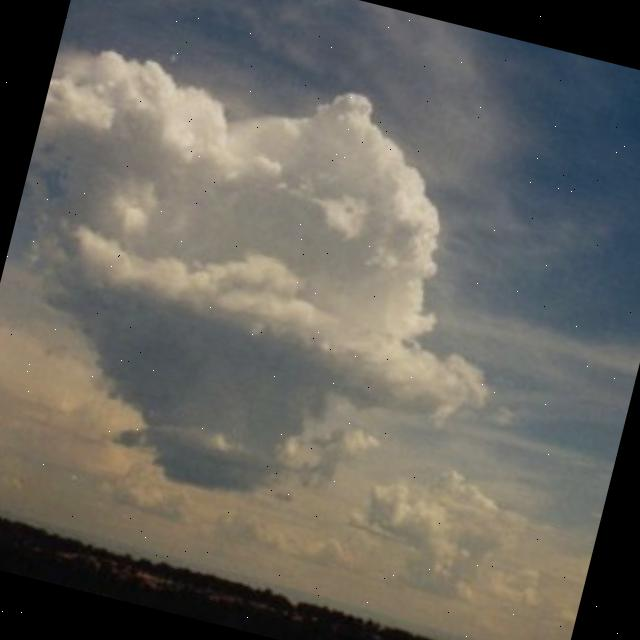Cs: (1, 1, 640, 588)
